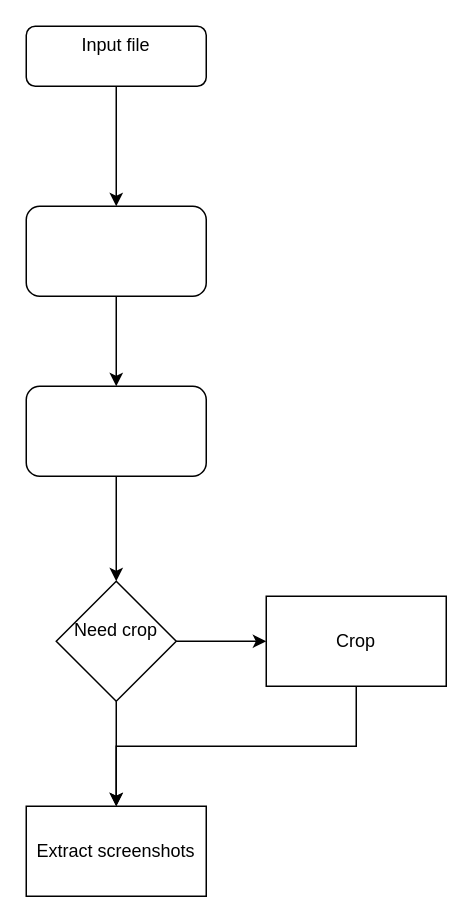
Some shapes in this 473 by 923 pixel diagram are drawn without their labels. The shapes that lost their labels are listed below. From the top down, each one's centre as x and y in pixels, then its label:
At pixel 115 250: "Check executables".
At pixel 115 430: "Check media info".
